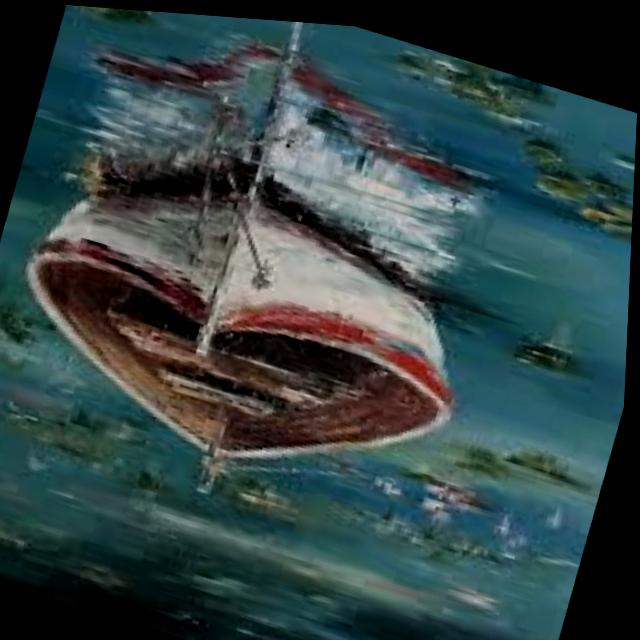ship2: (27, 155, 459, 486)
